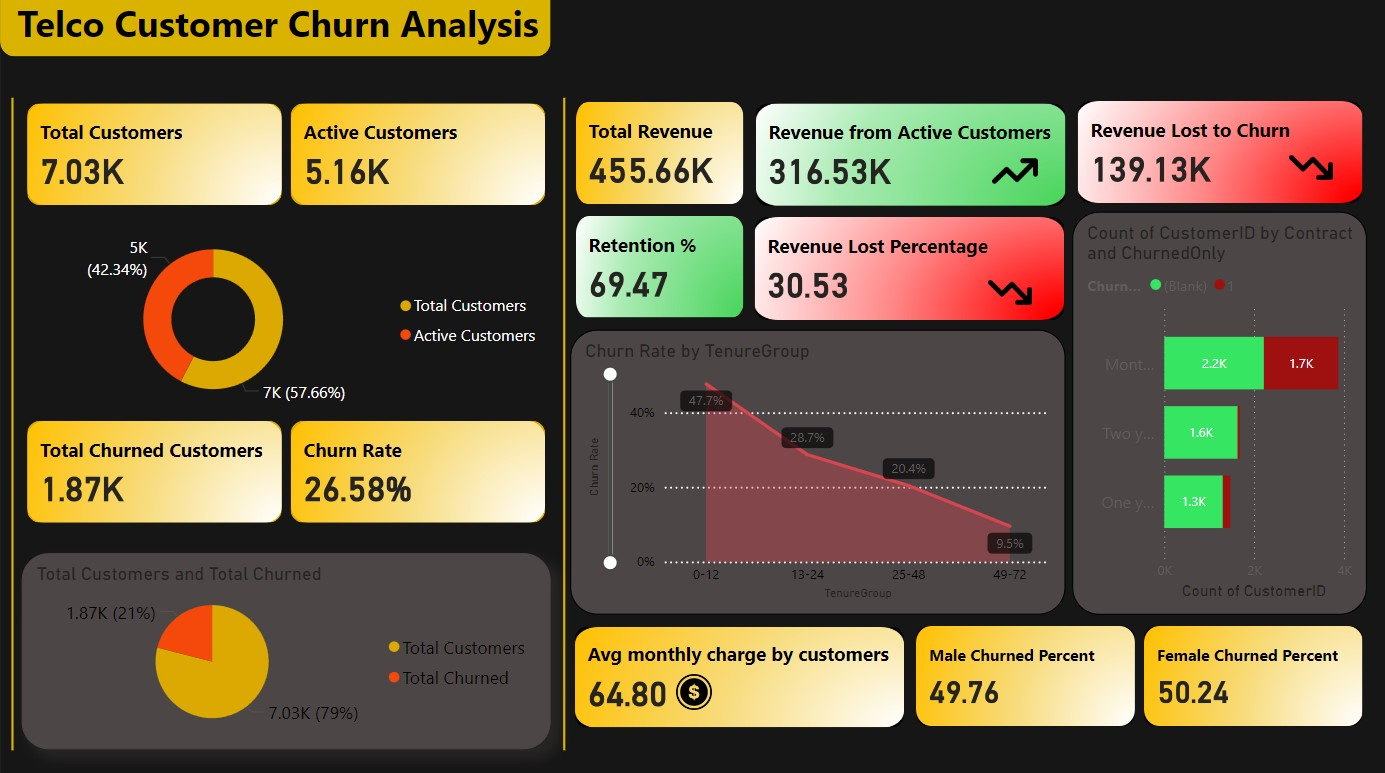

What the dashboard file says about the page in this screenshot:
{"tool":"powerbi","page":{"name":"Page 1","canvas":[1280,720],"ordinal":0},"visuals":[{"type":"cardVisual","fields":{"Data":["cleaned_data_final.Revenue Lost to Churn"]},"box":[988.6,90,274,104.4],"z":0,"group":"g4"},{"type":"group","id":"g1","title":"Group 2","box":[691.4,197.1,296.9,105.4],"z":0},{"type":"shape","box":[0,0,508.3,54.2],"z":1000},{"type":"textbox","title":"Telco Customer Churn Analysis","box":[10.8,0,492.5,42.5],"z":1000,"group":"g2"},{"type":"image","box":[1172.5,130.6,72,51.1],"z":1000,"group":"g4"},{"type":"group","id":"g2","title":"Group 1","box":[10.8,0,492.5,42.5],"z":2000},{"type":"image","box":[900,245.7,62.9,51.4],"z":3000},{"type":"cardVisual","fields":{"Data":["cleaned_data_final.Total Customers","cleaned_data_final.Active Customers"]},"box":[20.1,92.3,488.3,104.3],"z":4000},{"type":"donutChart","fields":{"Y":["cleaned_data_final.Total Customers","cleaned_data_final.Active Customers"]},"box":[20,208.3,488.3,176.7],"z":5000},{"type":"pieChart","fields":{"Y":["cleaned_data_final.Total Customers","cleaned_data_final.Total Churned Customers"]},"box":[20,511.7,488.3,181.7],"z":6000},{"type":"cardVisual","fields":{"Data":["cleaned_data_final.Total Churned Customers","cleaned_data_final.Churn Rate"]},"box":[20.1,385.3,488.3,104.3],"z":7000},{"type":"shape","box":[509,92.3,23.1,601.3],"z":8000},{"type":"shape","box":[0,92.3,23.1,601.3],"z":9000},{"type":"cardVisual","fields":{"Data":["cleaned_data_final.Total Revenue"]},"box":[525.7,91.4,165.7,104.3],"z":10000},{"type":"cardVisual","fields":{"Data":["cleaned_data_final.Revenue from Active Customers"]},"box":[691.5,91.5,296.9,105.4],"z":10000,"group":"g3"},{"type":"cardVisual","fields":{"Data":["cleaned_data_final.Revenue Lost %"]},"box":[691.4,197.1,296.9,105.4],"z":10000,"group":"g1"},{"type":"image","box":[909.9,132.5,52.8,52.7],"z":10500,"group":"g3"},{"type":"group","id":"g3","title":"Group 2","box":[691.5,91.5,296.9,105.4],"z":11000},{"type":"cardVisual","fields":{"Data":["cleaned_data_final.Revenue Retention Rate"]},"box":[525.7,195.7,165.7,104.3],"z":12000},{"type":"group","id":"g4","title":"Group 3","box":[988.6,90,272.9,104.3],"z":13000},{"type":"areaChart","fields":{"Category":["cleaned_data_final.TenureGroup"],"Y":["cleaned_data_final.Churn Rate"]},"box":[525.7,305.7,457.1,262.9],"z":14000},{"type":"barChart","fields":{"Category":["cleaned_data_final.Contract"],"Y":["CountNonNull(cleaned_data_final.CustomerID)"],"Series":["cleaned_data_final.ChurnedOnly"]},"box":[988.6,197.1,272.9,371.4],"z":15000},{"type":"cardVisual","fields":{"Data":["cleaned_data_final.AvgMonthlyCharge"]},"box":[525.4,574.6,314.6,103.1],"z":15001},{"type":"image","box":[615.7,618.6,47.9,43.6],"z":15002},{"type":"cardVisual","fields":{"Data":["cleaned_data_final.MaleChurnedPercent","cleaned_data_final.FemaleChurnedPercent"]},"box":[840,574.4,423.3,103.3],"z":15003}]}

Visuals, with their boxes in screenshot pixels (x1, y1, x2, y2), scaled from the page's 1280x720 canvas onto the 1385x773 screenshot:
cardVisual - cleaned_data_final.Revenue Lost to Churn: (1070, 97, 1366, 209)
"Group 2" group: (748, 212, 1069, 325)
shape: (0, 0, 550, 58)
"Telco Customer Churn Analysis" textbox: (12, 0, 545, 46)
image: (1269, 140, 1347, 195)
"Group 1" group: (12, 0, 545, 46)
image: (974, 264, 1042, 319)
cardVisual - cleaned_data_final.Total Customers x cleaned_data_final.Active Customers: (22, 99, 550, 211)
donutChart - cleaned_data_final.Total Customers x cleaned_data_final.Active Customers: (22, 224, 550, 413)
pieChart - cleaned_data_final.Total Customers x cleaned_data_final.Total Churned Customers: (22, 549, 550, 744)
cardVisual - cleaned_data_final.Total Churned Customers x cleaned_data_final.Churn Rate: (22, 414, 550, 526)
shape: (551, 99, 576, 745)
shape: (0, 99, 25, 745)
cardVisual - cleaned_data_final.Total Revenue: (569, 98, 748, 210)
cardVisual - cleaned_data_final.Revenue from Active Customers: (748, 98, 1069, 211)
cardVisual - cleaned_data_final.Revenue Lost %: (748, 212, 1069, 325)
image: (985, 142, 1042, 199)
"Group 2" group: (748, 98, 1069, 211)
cardVisual - cleaned_data_final.Revenue Retention Rate: (569, 210, 748, 322)
"Group 3" group: (1070, 97, 1365, 209)
areaChart - cleaned_data_final.TenureGroup x cleaned_data_final.Churn Rate: (569, 328, 1063, 610)
barChart - cleaned_data_final.Contract x CountNonNull(cleaned_data_final.CustomerID): (1070, 212, 1365, 610)
cardVisual - cleaned_data_final.AvgMonthlyCharge: (568, 617, 909, 728)
image: (666, 664, 718, 711)
cardVisual - cleaned_data_final.MaleChurnedPercent x cleaned_data_final.FemaleChurnedPercent: (909, 617, 1367, 728)
